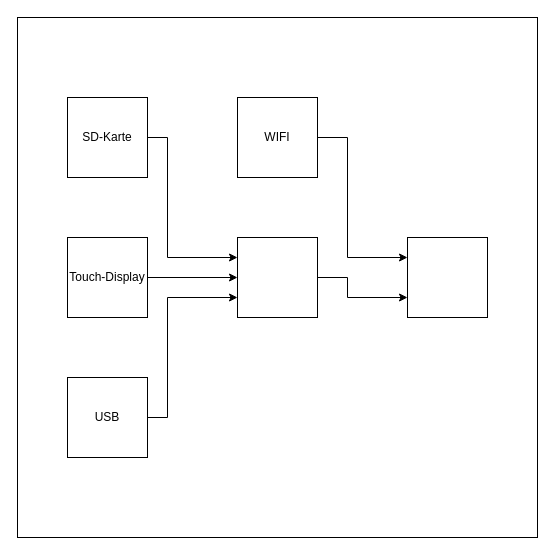
Image size: 555x555. Some labels were removed from this diagram. Here are the shapes that lost their labels. From the top down, the centre of each, then its label:
At point 277,277: "Schnittstellen-platine".
At point 447,277: "RaspberryPi".
